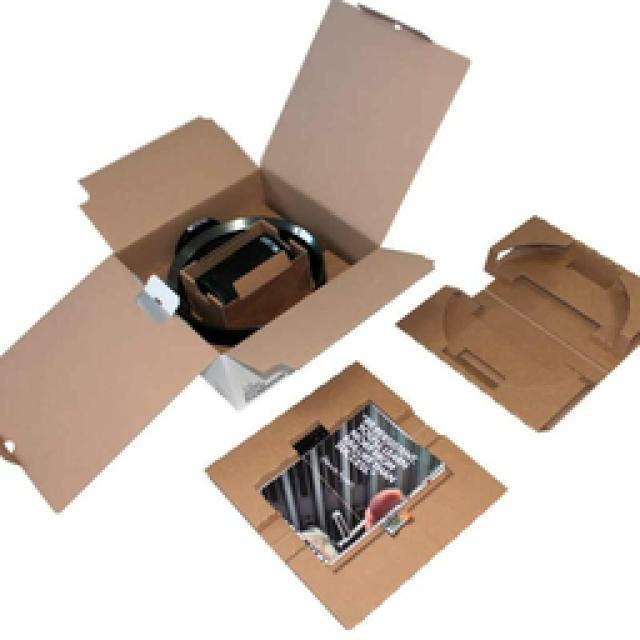cardboard: (0, 0, 468, 508), (208, 362, 502, 628), (398, 218, 638, 430)
